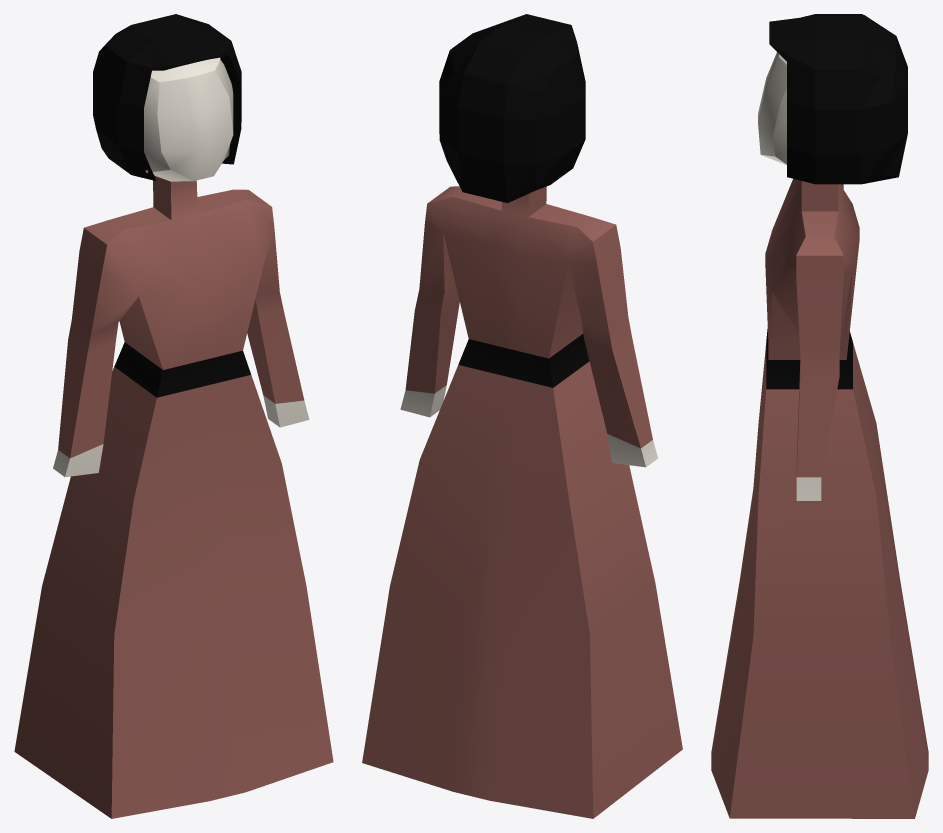
File: Girl 1.fbx
3 renders of one model, left to right at view 1: azimuth 30°, elevation 25°; view 2: azimuth 150°, elevation 25°; view 3: azimuth 270°, elevation 25°, orthographic.
Parts seen in each view (by area): view 1: pCube1, pCube2; view 2: pCube1, pCube2; view 3: pCube1, pCube2.
Part boxes in pixels (x1,y1,x2,y2): pCube1: (14, 57, 333, 818); pCube2: (93, 14, 241, 180); pCube1: (362, 186, 682, 818); pCube2: (439, 14, 585, 202); pCube1: (711, 52, 928, 818); pCube2: (769, 14, 907, 184).
Bounding box in the file's own units: 1.57 × 4.42 × 1.18.
